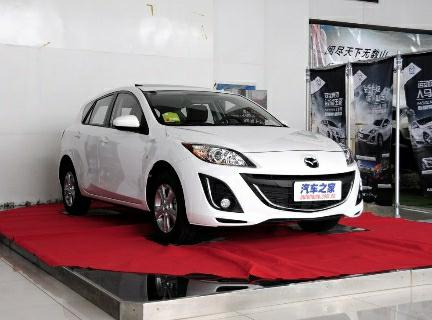car: (44, 84, 370, 245)
